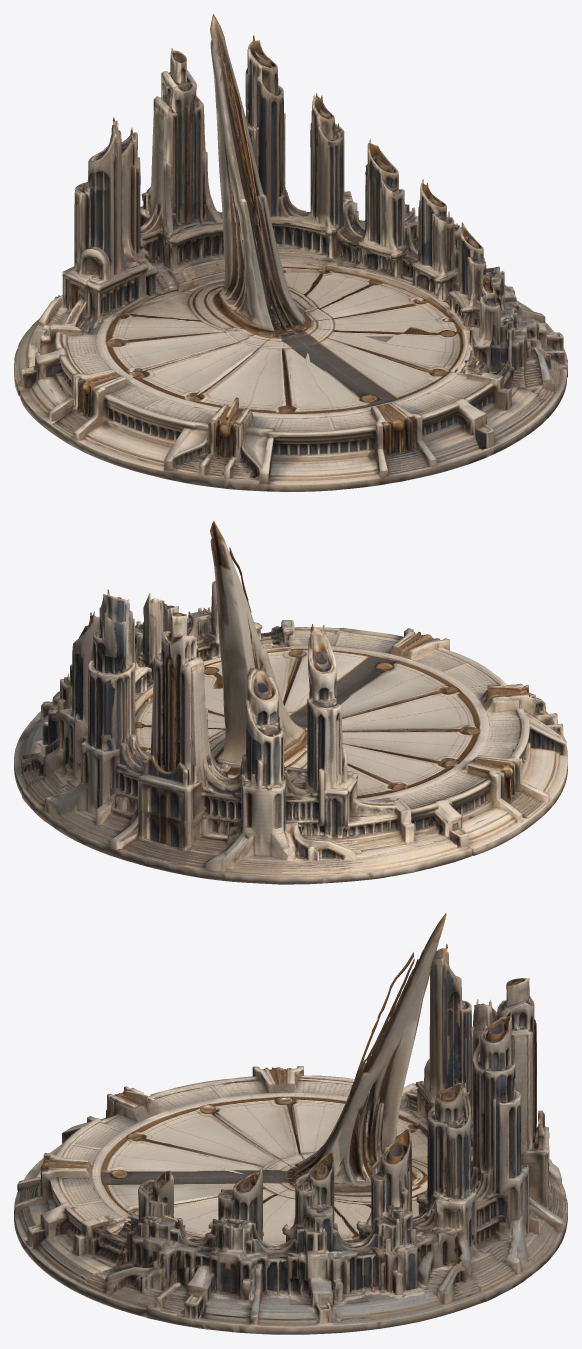
File: Ivory_Spire_Citadel.glb
3 views of the same model, one above another, from view 1: azimuth 30°, elevation 25°; view 2: azimuth 150°, elevation 25°; view 3: azimuth 270°, elevation 25° (orthographic).
Parts seen in each view (by area): view 1: Ivory_Spire_Citadel; view 2: Ivory_Spire_Citadel; view 3: Ivory_Spire_Citadel.
Part boxes in pixels (<box>): Ivory_Spire_Citadel: <box>14,14,567,491</box>; Ivory_Spire_Citadel: <box>14,521,567,884</box>; Ivory_Spire_Citadel: <box>14,913,567,1334</box>.
Size of the model in its own units: 1.9 by 1.16 by 1.9.
Materials: 1 (1 with a texture image).
